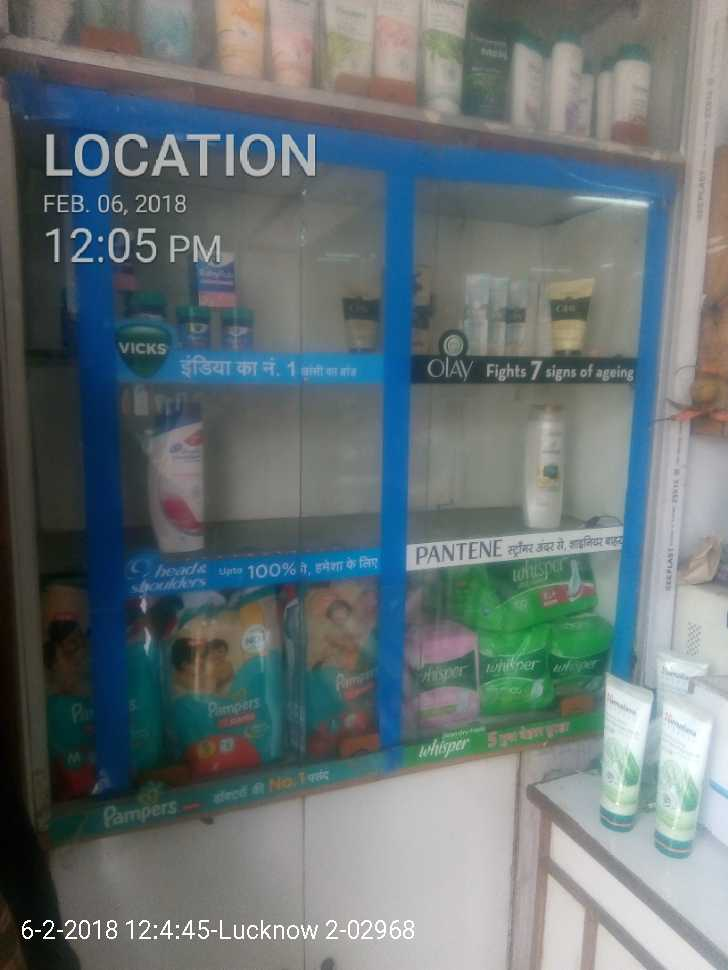beauty: (139, 397, 213, 557), (521, 400, 572, 532), (464, 271, 528, 354), (542, 276, 597, 358)
pharmacy: (154, 597, 292, 775), (447, 560, 602, 622), (471, 635, 554, 714), (406, 629, 481, 716), (539, 623, 607, 698)
